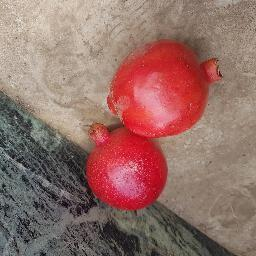pomegranate: (105, 39, 223, 137), (85, 123, 169, 211)
